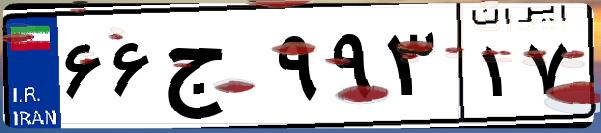1: (475, 38, 525, 113)
3: (385, 28, 445, 110)
6: (57, 26, 110, 100), (110, 28, 158, 98)
7: (525, 38, 570, 115)
9: (270, 28, 330, 110), (330, 28, 385, 110)
ج: (158, 20, 270, 120)
